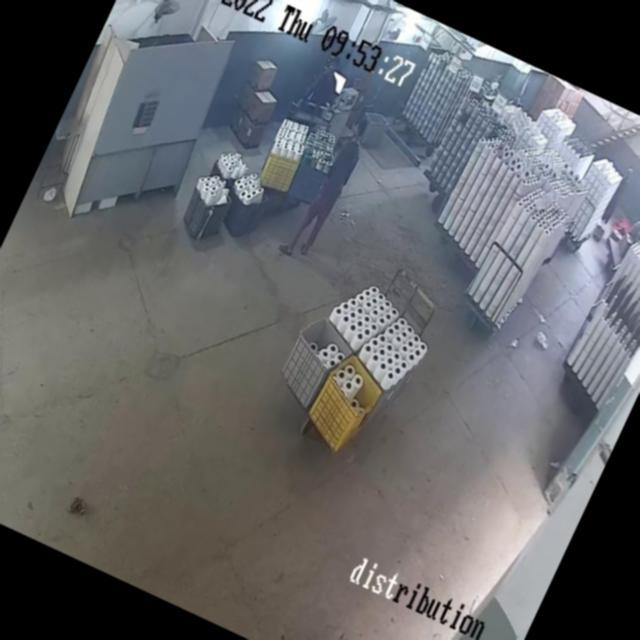person: (282, 106, 380, 268), (296, 51, 354, 122), (600, 164, 636, 226)
